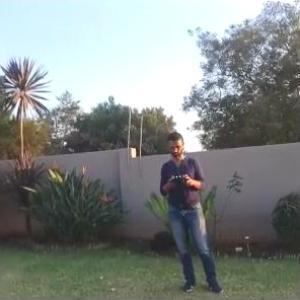follow: (156, 129, 228, 296)
